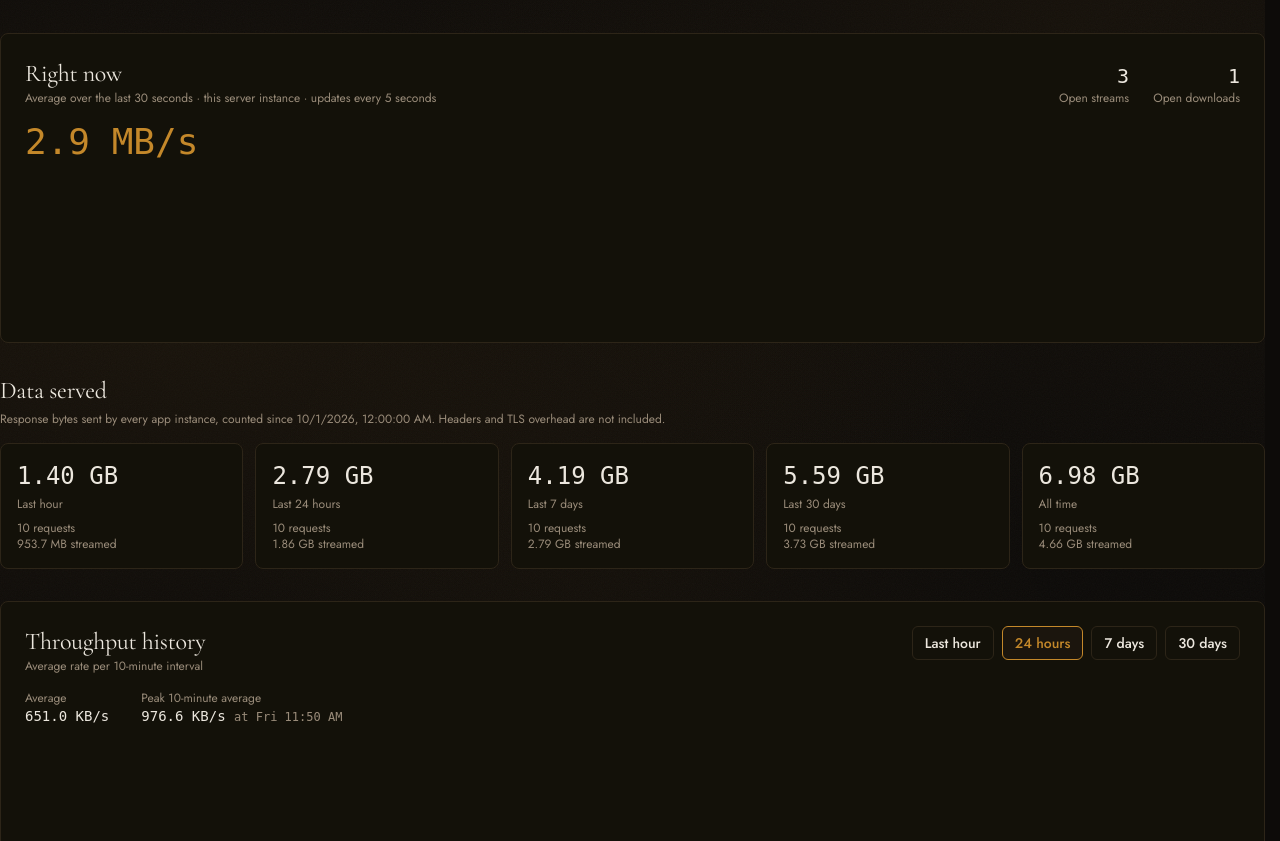
it: hides the previous range and its error while another range loads
Expected: the text "Average" is shown, top-left (25, 689), bottom-right (66, 707)
Click the button "7 days". click: (1124, 643)
box: top-left (1091, 626), bottom-right (1157, 660)
(page scrolled)
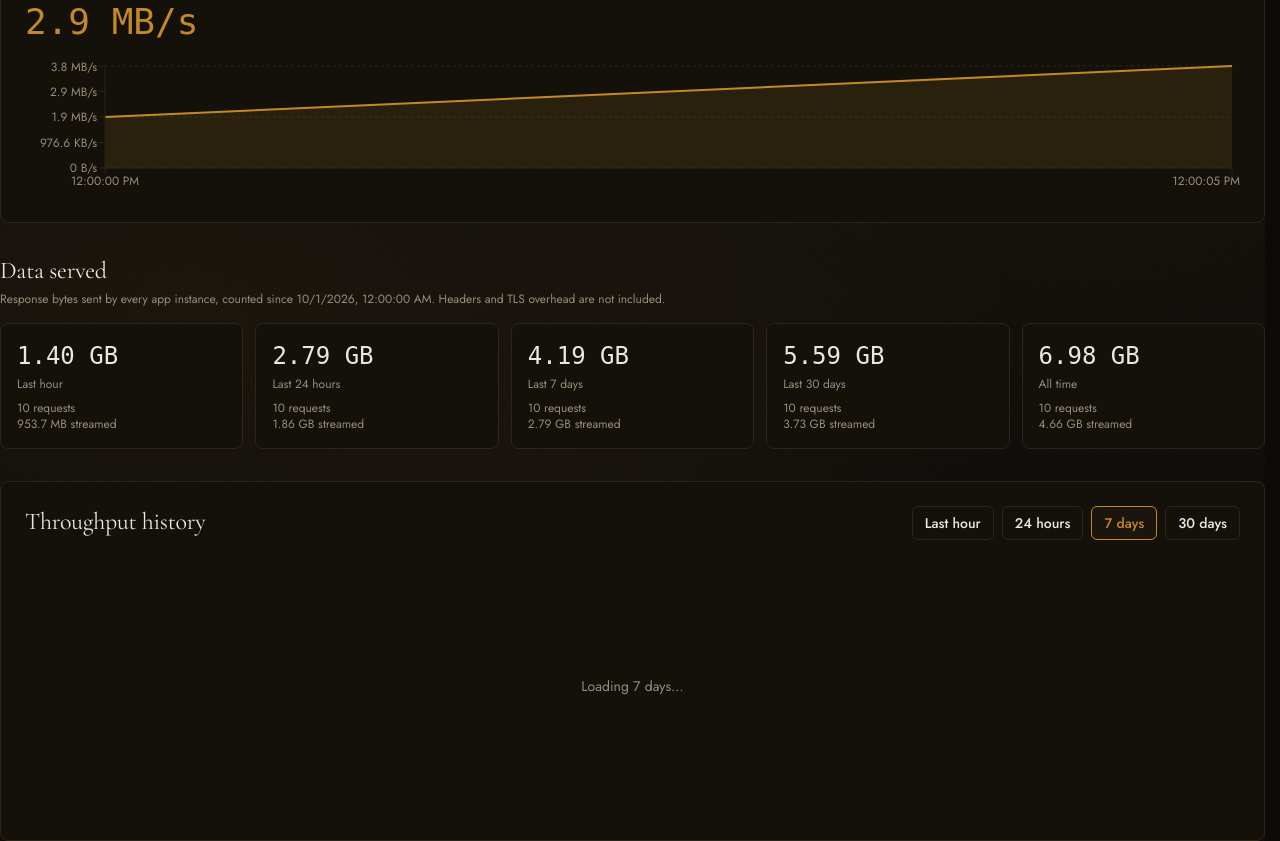
Expected: the text "Loading 7 days…" is shown, top-left (581, 676), bottom-right (684, 696)
